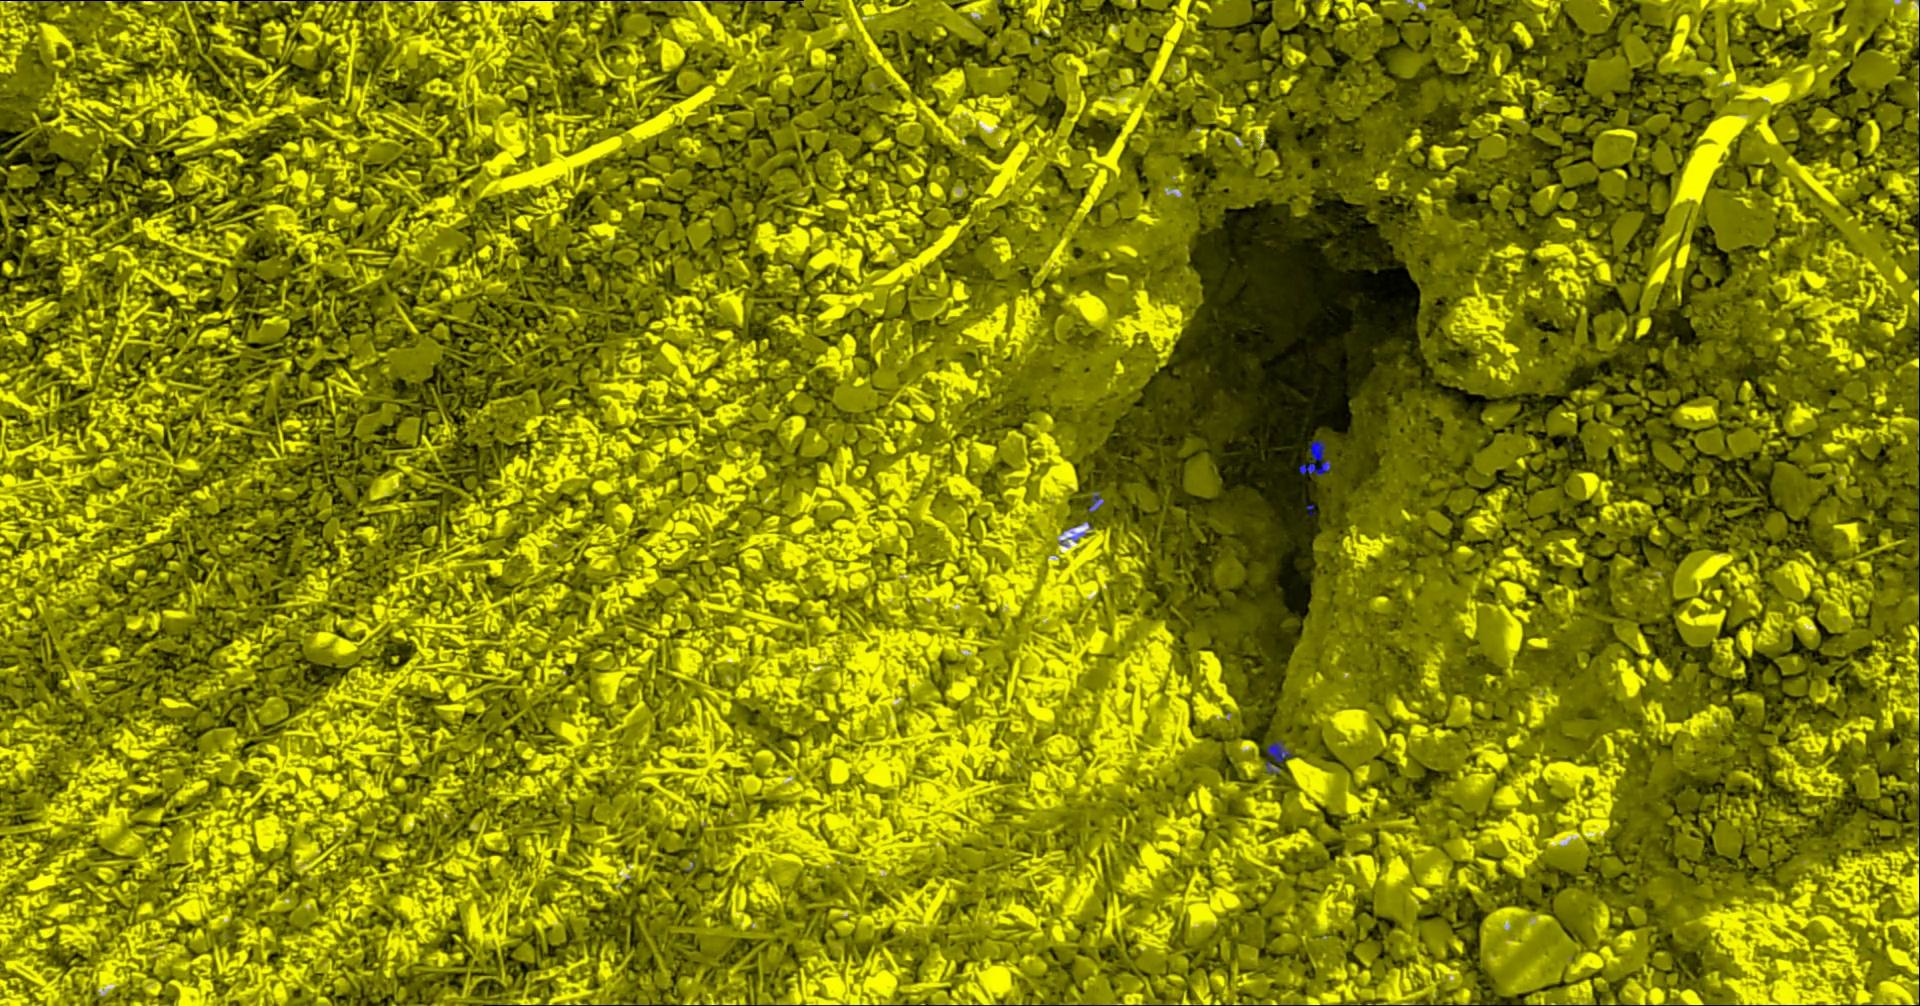ant: (1300, 439, 1332, 475), (1267, 739, 1293, 774), (1090, 494, 1106, 512)
